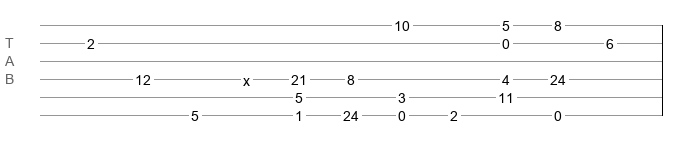0: (398, 108, 406, 118), (502, 36, 510, 46), (554, 108, 562, 118)
1: (295, 108, 303, 118)
10: (394, 18, 410, 28)
11: (498, 90, 514, 100)
12: (135, 72, 151, 82)
2: (87, 36, 95, 46), (450, 108, 458, 118)
21: (291, 72, 307, 82)
24: (343, 108, 359, 118), (550, 72, 566, 82)
3: (398, 90, 406, 100)
4: (502, 72, 510, 82)
5: (191, 108, 199, 118), (295, 90, 303, 100), (502, 18, 510, 28)
6: (606, 36, 614, 46)
8: (347, 72, 355, 82), (554, 18, 562, 28)
x: (243, 73, 250, 81)
